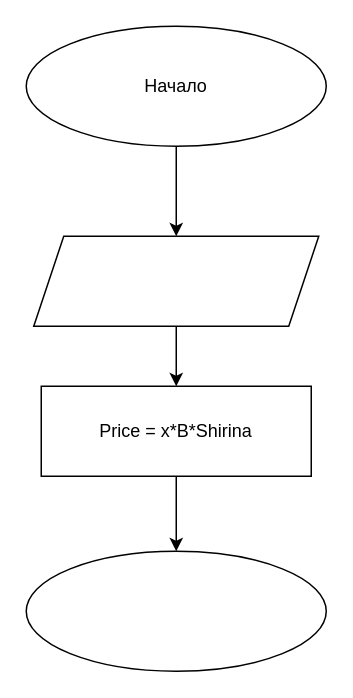
Image size: 353x698. Some labels were removed from this diagram. Here are the shapes that lost their labels. From the top down, the centre of each, then its label:
At pixel 175 280: "x, B, Shirina".
At pixel 175 610: "Конец".
